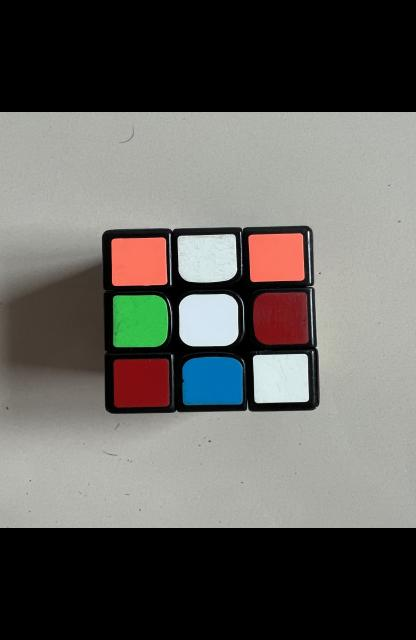Blue: (182, 357, 242, 406)
Green: (112, 295, 168, 347)
Orange: (247, 233, 304, 282), (110, 238, 167, 286)
Red: (252, 292, 308, 345), (112, 359, 168, 408)
White: (178, 294, 238, 346), (177, 234, 237, 283), (252, 354, 308, 403)
